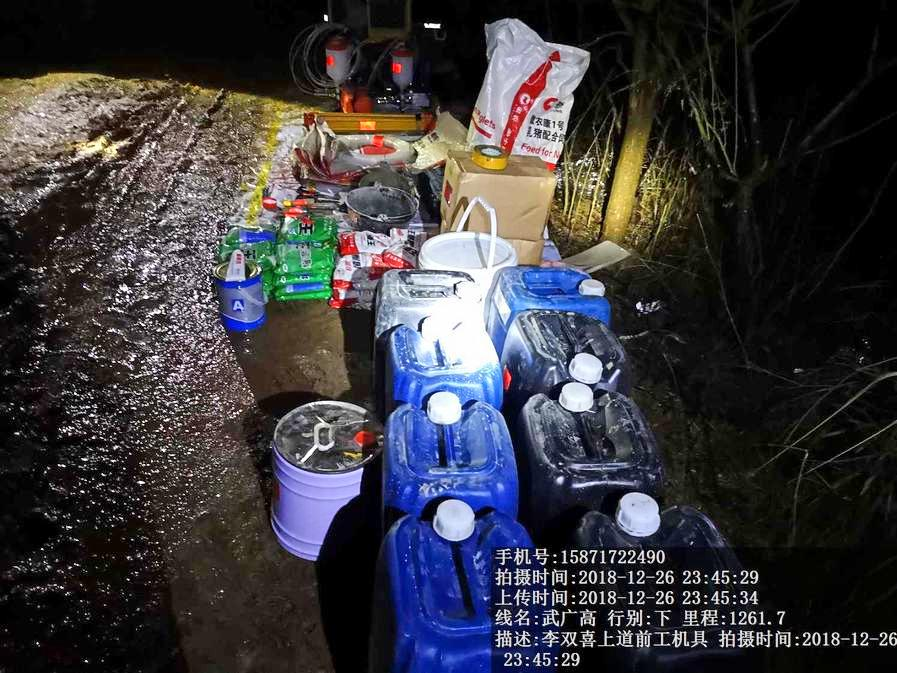SLT: (378, 515, 519, 654), (518, 382, 668, 495), (380, 403, 517, 505), (503, 312, 646, 380), (376, 321, 499, 400), (486, 257, 613, 316)
SNT: (342, 186, 415, 227)
